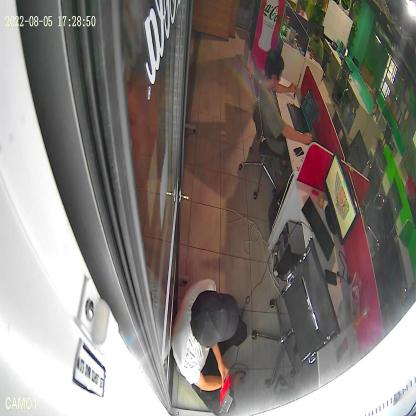red: (219, 372, 234, 413)
